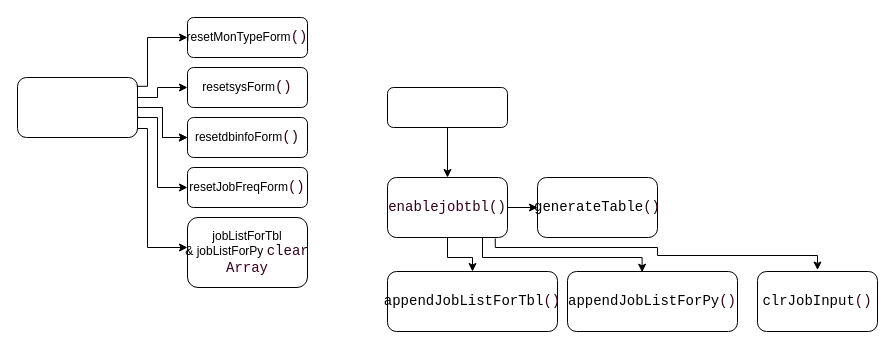
Image size: 895x349. Some labels were removed from this diagram. The centre of each missing label's shape, as x and y in pixels:
"Add addJobToTbl()" belongs at [447,107].
"Input Form showFormPage()" belongs at [77,107].
